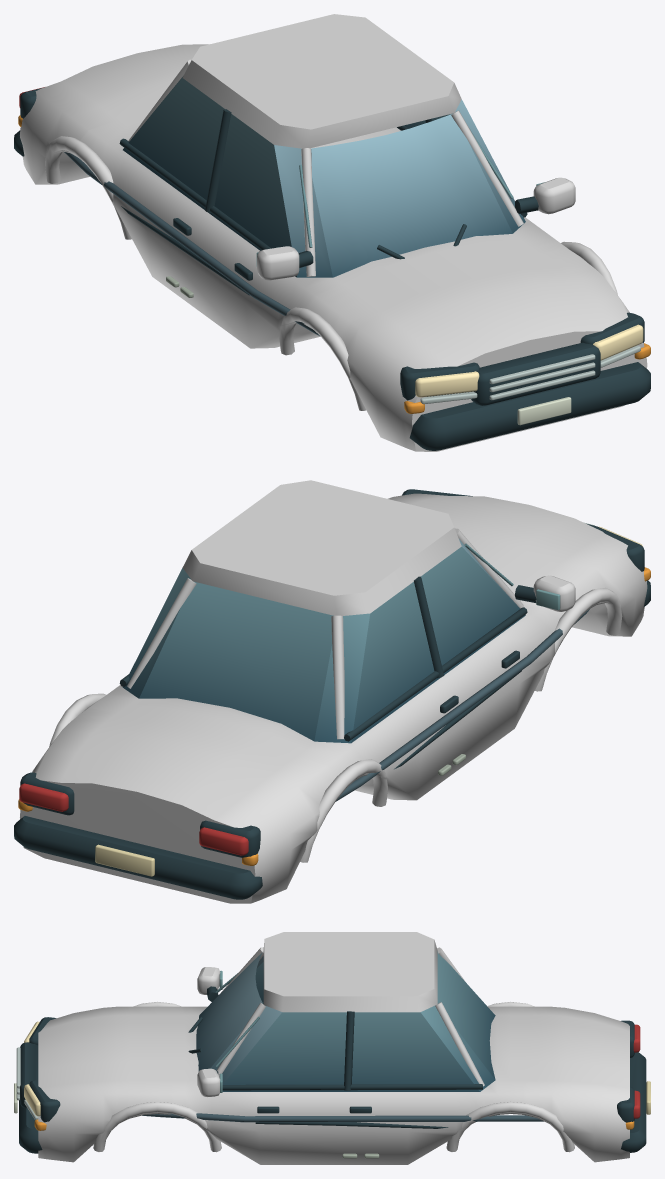
Rendered from meridian.glb.
The picture shows the model from 3 angles, top to bottom: view 1: azimuth 30°, elevation 25°; view 2: azimuth 150°, elevation 25°; view 3: azimuth 270°, elevation 25°; orthographic projection. The views are drawn at different scales.
Visible parts, largest first — view 1: Chassis, Headlamps; view 2: Chassis, BrakeLamps; view 3: Chassis, Headlamps, BrakeLamps.
Part boxes in pixels (x1,y1,x2,y2): Chassis: [14, 14, 650, 451]; Headlamps: [415, 324, 643, 397]; Chassis: [14, 480, 650, 903]; BrakeLamps: [19, 783, 248, 855]; Chassis: [14, 932, 650, 1164]; Headlamps: [24, 1021, 40, 1116]; BrakeLamps: [633, 1024, 640, 1118].
Bounding box in the file's own units: 1.74 × 1.1 × 4.06.
